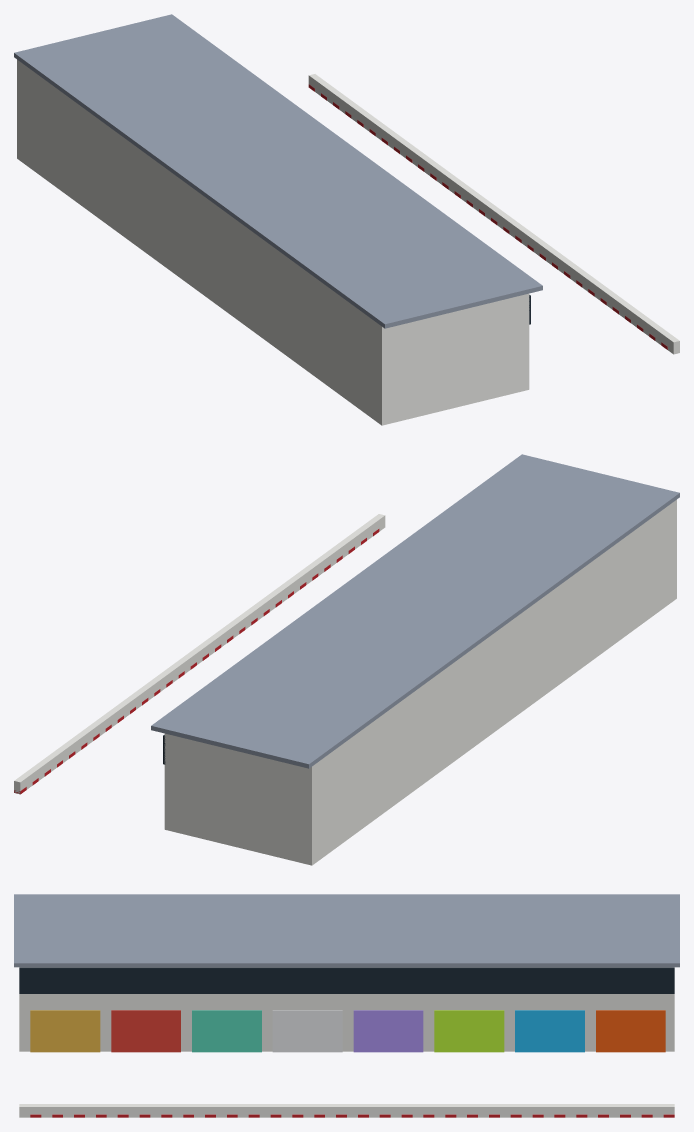
The model's file is pit_building_60m.glb.
3 views of the same model, one above another, from view 1: azimuth 30°, elevation 25°; view 2: azimuth 150°, elevation 25°; view 3: azimuth 270°, elevation 25° (orthographic). The views are drawn at different scales.
Parts seen in each view (by area): view 1: pits; view 2: pits; view 3: pits.
Boxes of the visible parts, x1,y1,x2,y2 form: pits: (14,14,679,425); pits: (14,454,679,865); pits: (14,894,679,1117).
Bounding box in the file's own units: 28.31 × 9.4 × 61.
